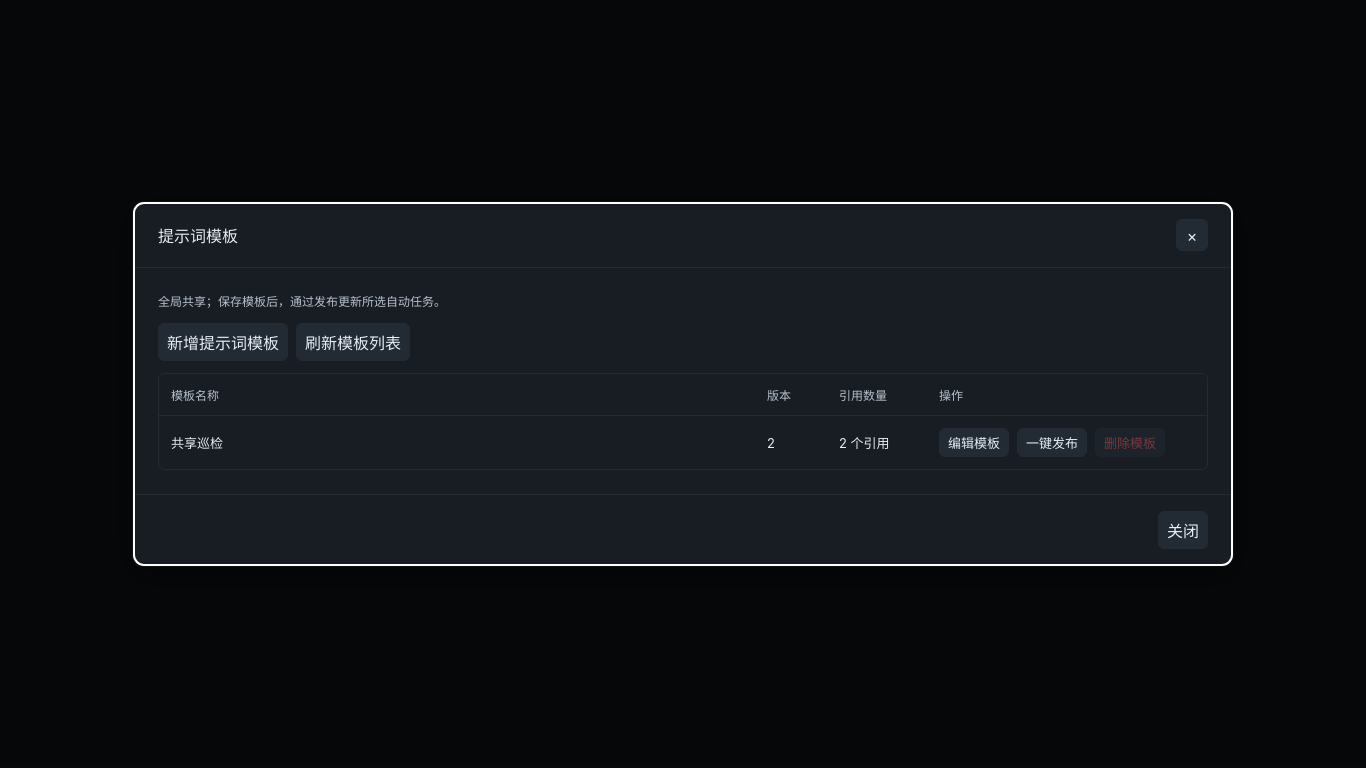
Scenario: defaults to preserving independent edits and publishes only explicitly selected tasks
The width and height of the screenshot is (1366, 768).
Step 1. Click the button "一键发布" → coordinates (1052, 443), box [1017,428,1087,457]
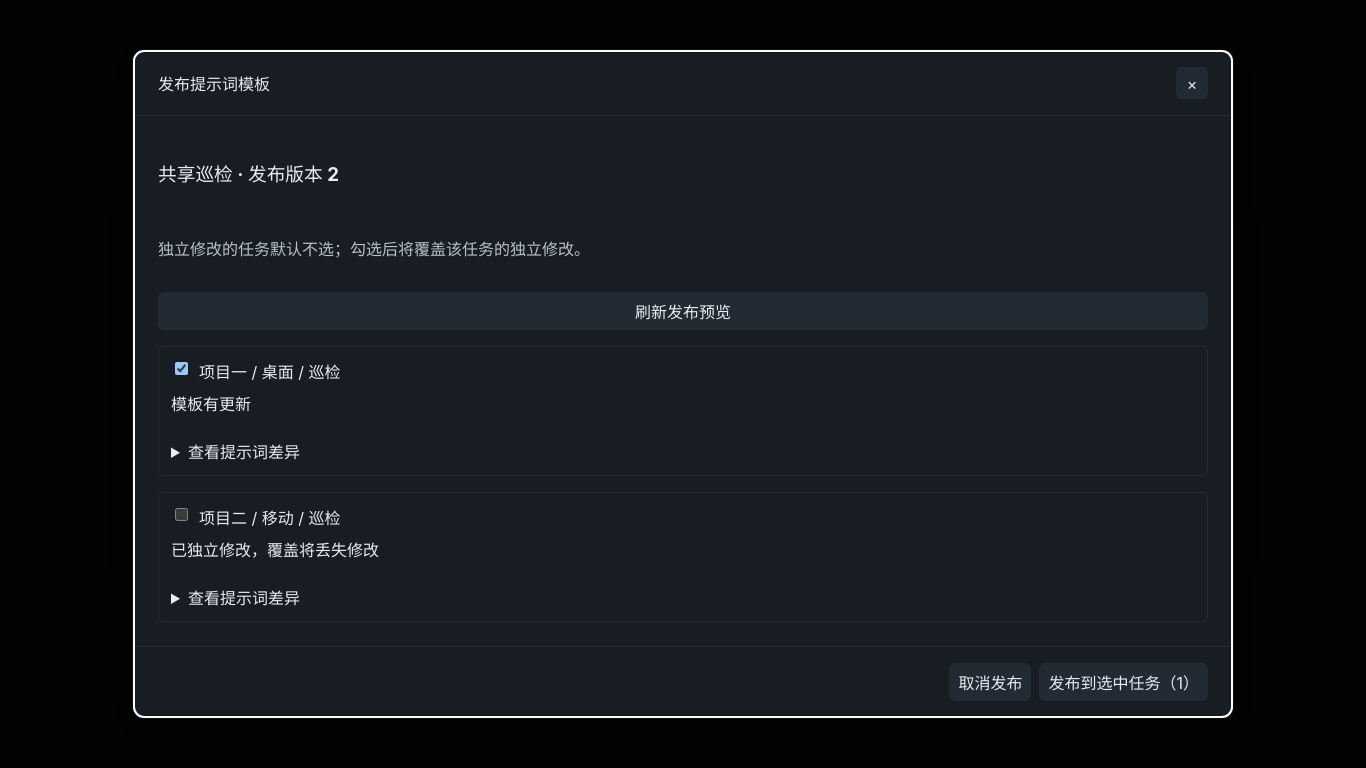
Now the checkbox labelled "项目一 / 桌面 / 巡检" is checked, box [175,362,188,375]
Now the checkbox labelled "项目二 / 移动 / 巡检" is not checked
Now the text "已独立修改，覆盖将丢失修改" is shown, box [171,540,379,560]
Step 2. Click the checkbox labelled "项目二 / 移动 / 巡检" → coordinates (182, 515), box [175,508,188,521]
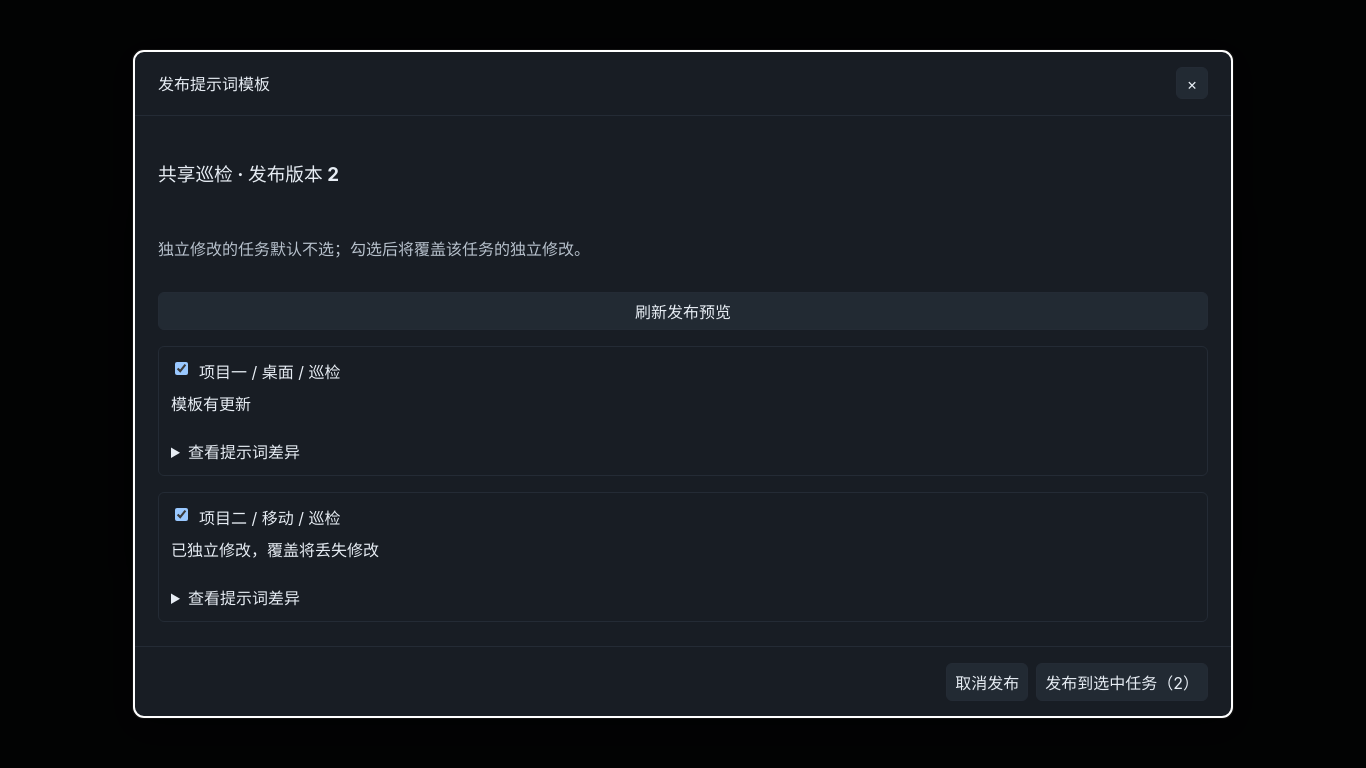
Step 3. Click the button "发布到选中任务（2）" → coordinates (1122, 682), box [1036,663,1208,701]
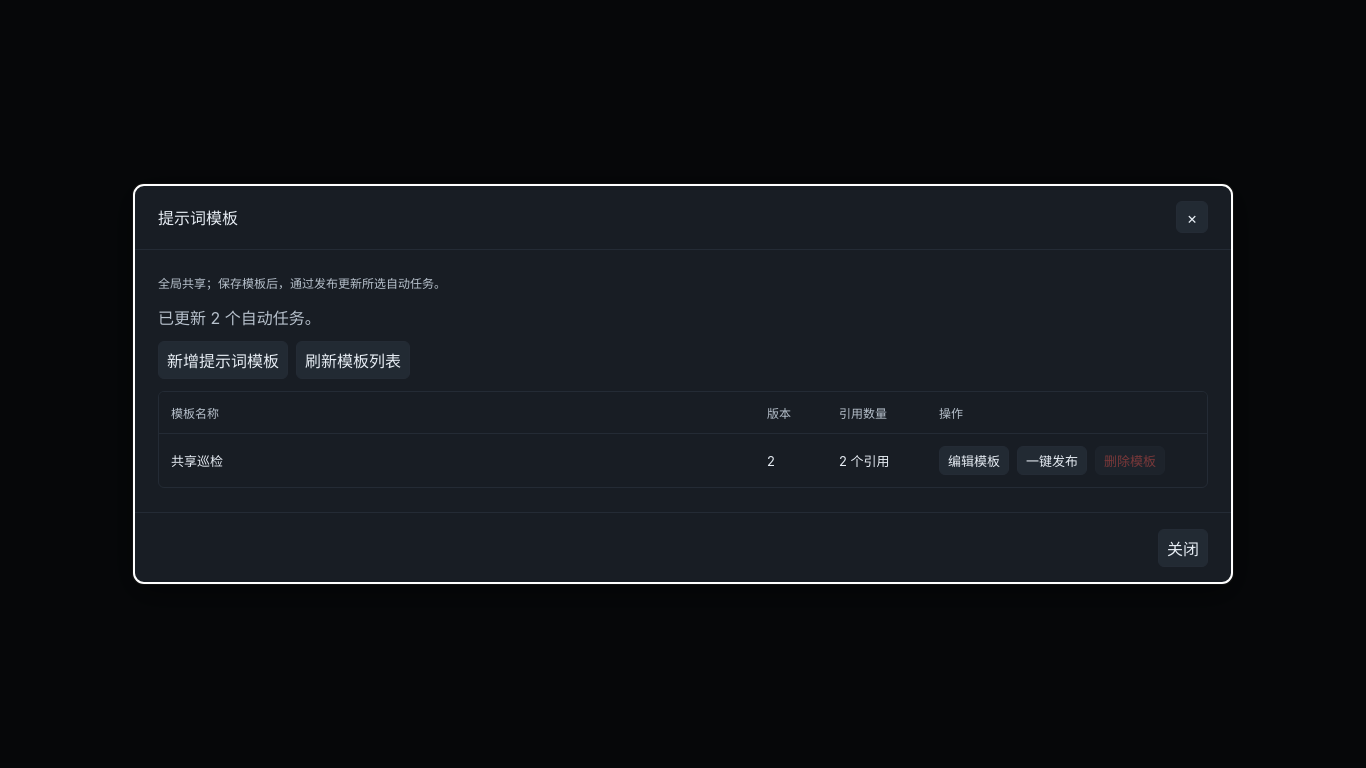
Now the message reads "已更新 2 个自动任务。", box [158,308,321,328]
